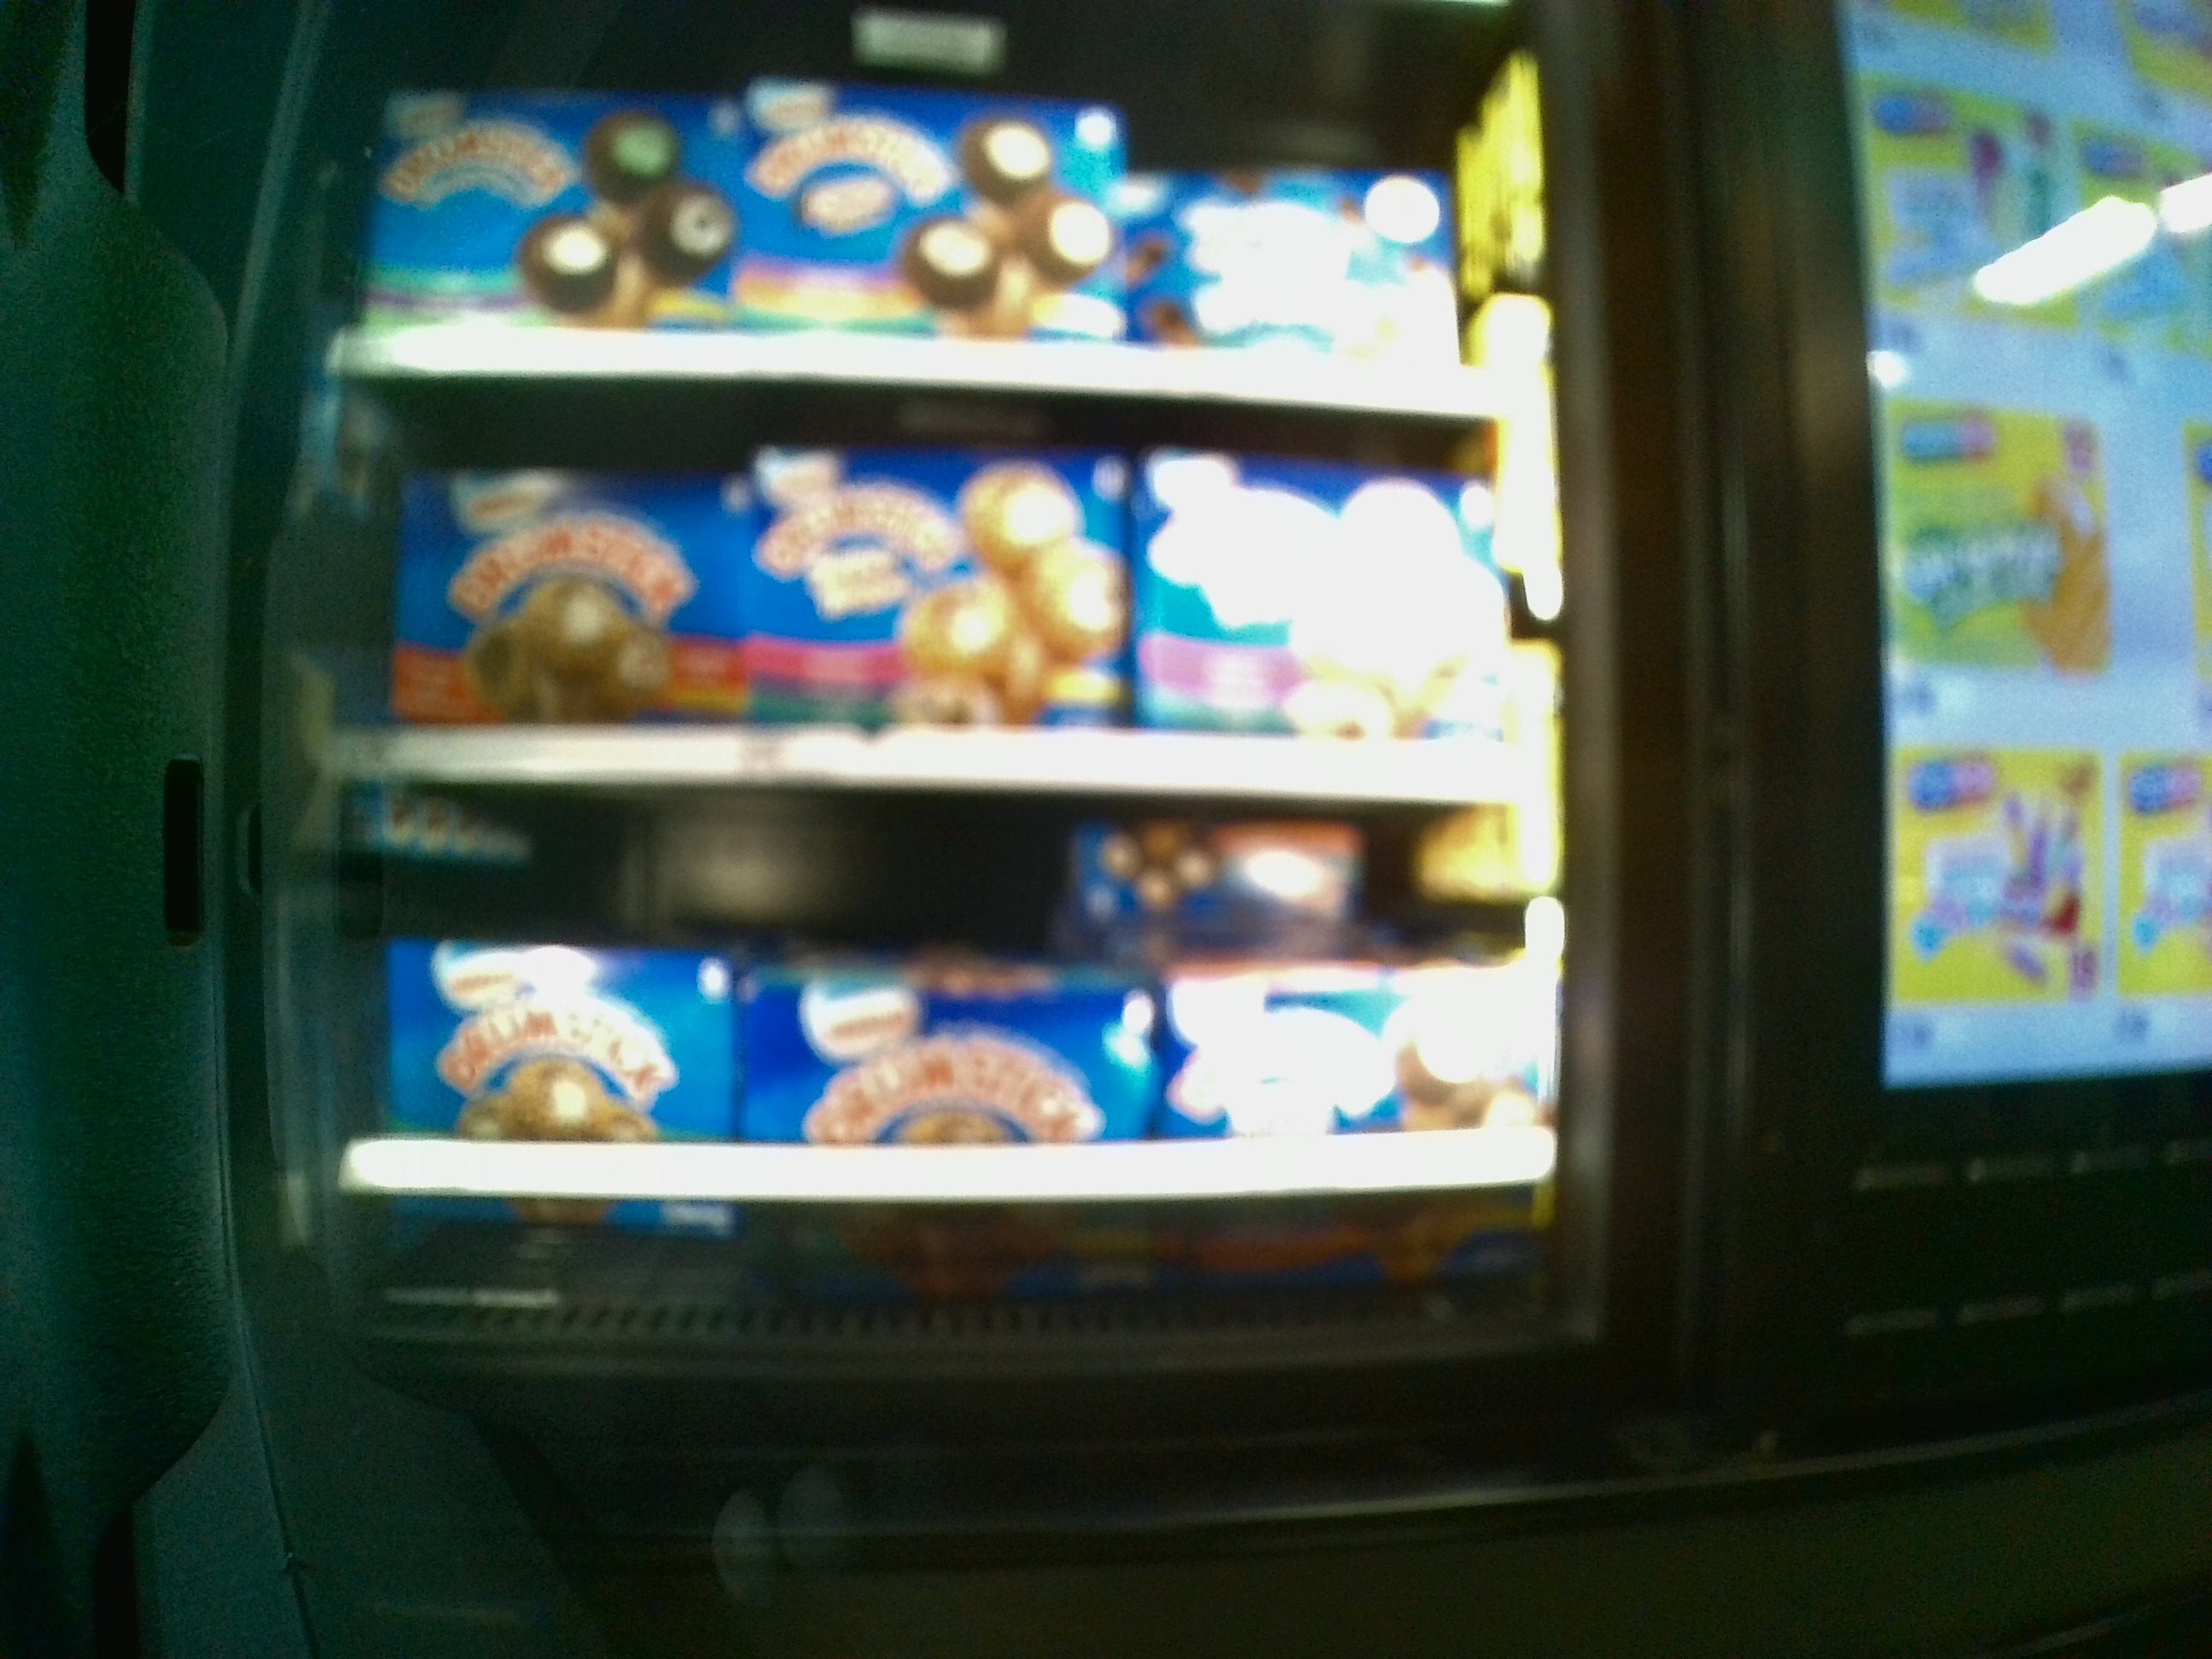shelf: (376, 784, 1541, 1331), (357, 387, 1517, 796)
